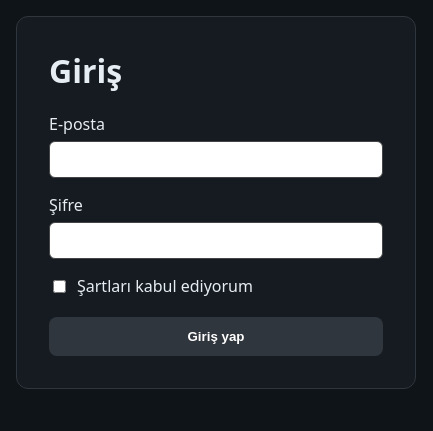
Test: Login formu › Hata durumlari › gecersiz email: tek hata mesaji, dogru metin, buton disabled
In the field with test id "email": (216, 160) [49,141,383,178], type "yanlis"
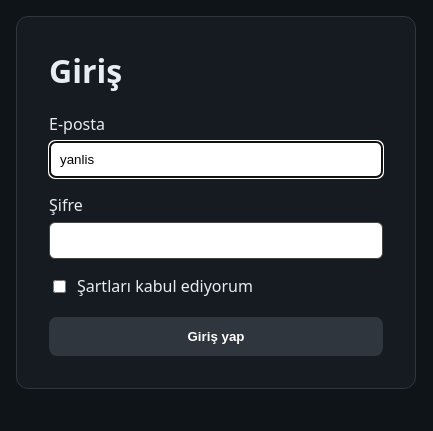
Leave the field with test id "email", box [49,141,383,178]
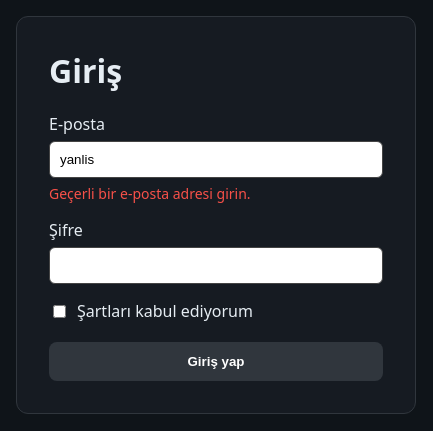
Expected: the button with test id "login-submit" is disabled, [49,342,383,381]
Expected: the number of elements with test id "form-error" is 1, [49,184,251,203]
Expected: the text with test id "form-error" shows "Geçerli bir e-posta", [49,184,251,203]
